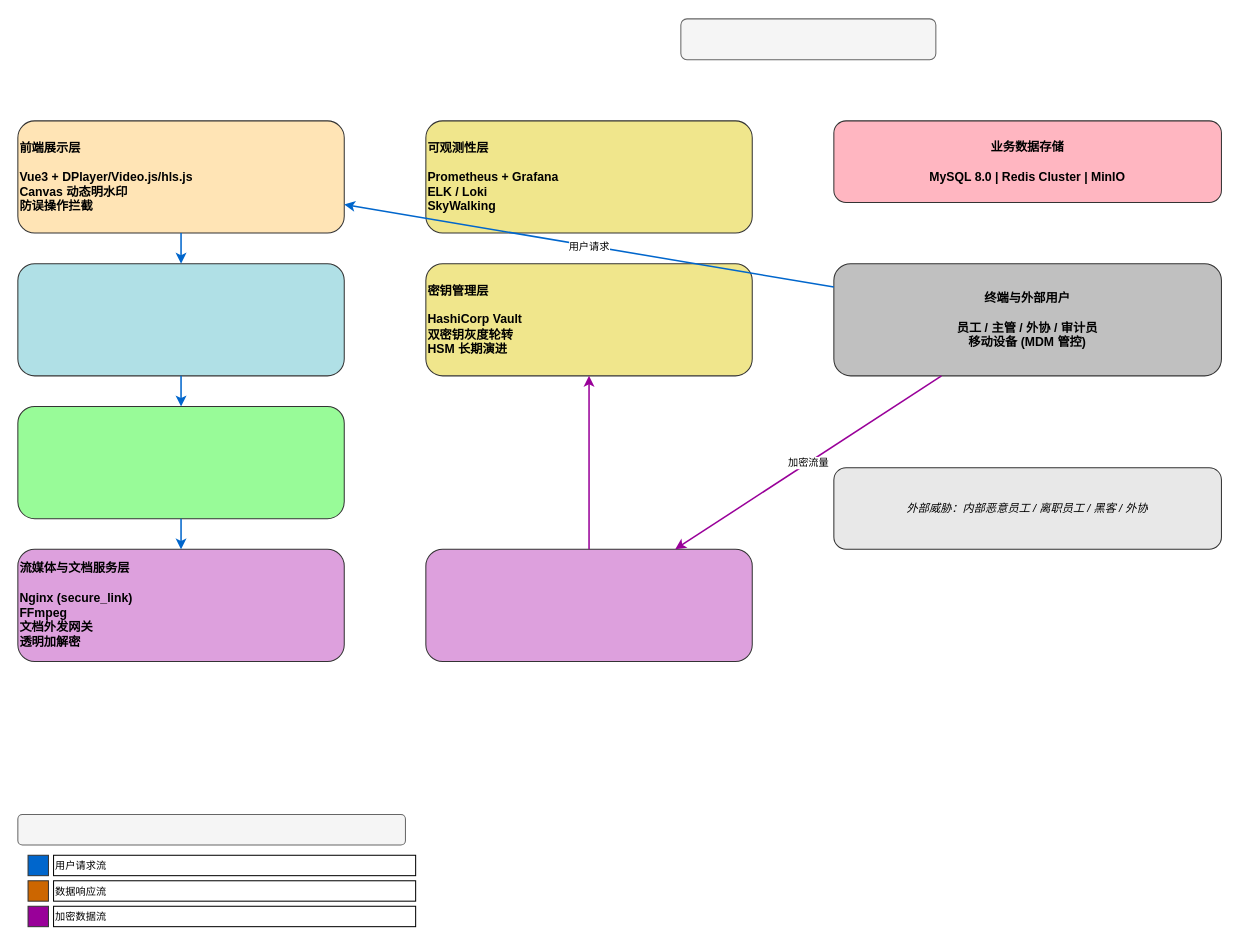
This 1239x945 diagram has some shape labels left out. Here are the shapes that lost their labels. From the top down, the centre of each, then its label:
At pixel 808 39: "企业全格式数字资产防泄密系统 — 整体架构".
At pixel 180 319: "业务后端层 Spring Boot 3.x RBAC + JWT 鉴权 API 网关 (限流/熔断)".
At pixel 180 462: "异步处理流水线 RabbitMQ Python Worker HLS 切片 + 帧指纹 + 盲水印 GPU 加速".
At pixel 588 604: "终端层（员工） Windows / Linux 终端 驱动：minifilter / FUSE MDM 移动管控".
At pixel 211 829: "图例".
